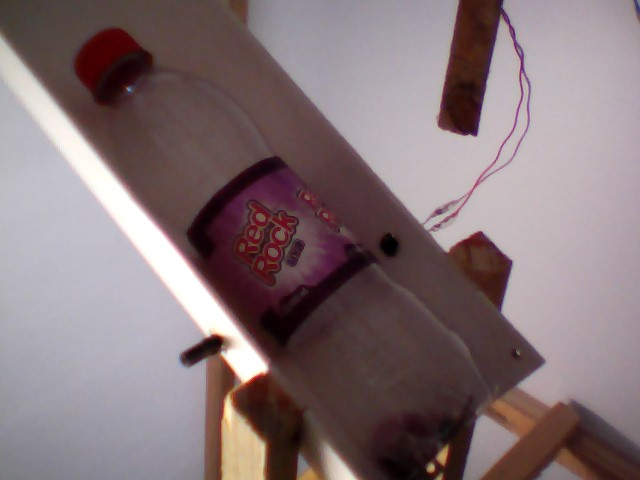plastico: (67, 16, 514, 480)
